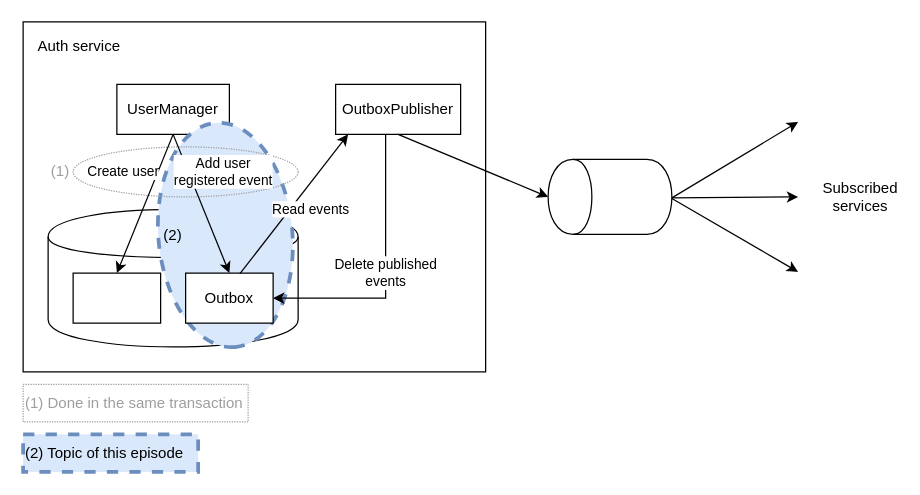
Some shapes in this 920 by 495 pixel diagram are drawn without their labels. The shapes that lost their labels are listed below. From the top down, each one's centre as x and y in pixels, then its label:
At pixel 609 196: "Event bus".
At pixel 116 297: "Users".
